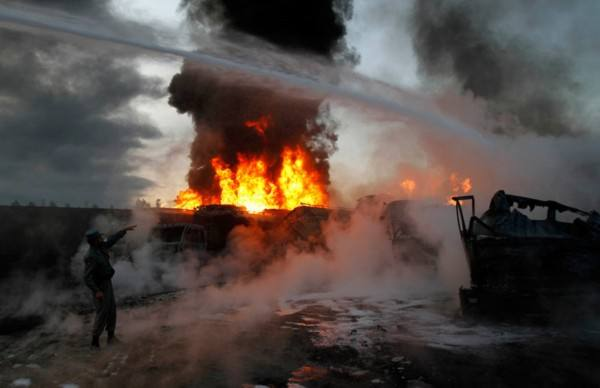fire: (170, 136, 344, 217), (450, 160, 471, 211), (400, 175, 421, 196)
